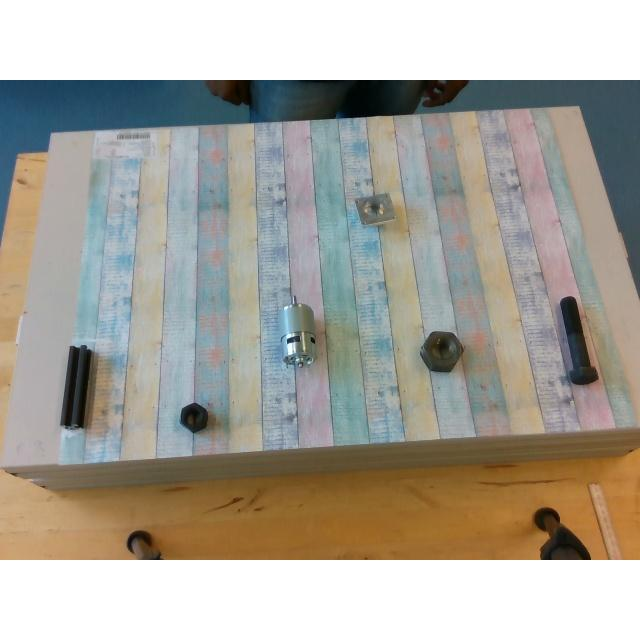F20_20_B: (61, 346, 91, 426)
M20: (178, 402, 210, 434)
M20_100: (560, 296, 596, 384)
M30: (421, 331, 464, 371)
Motor2: (280, 298, 316, 364)
